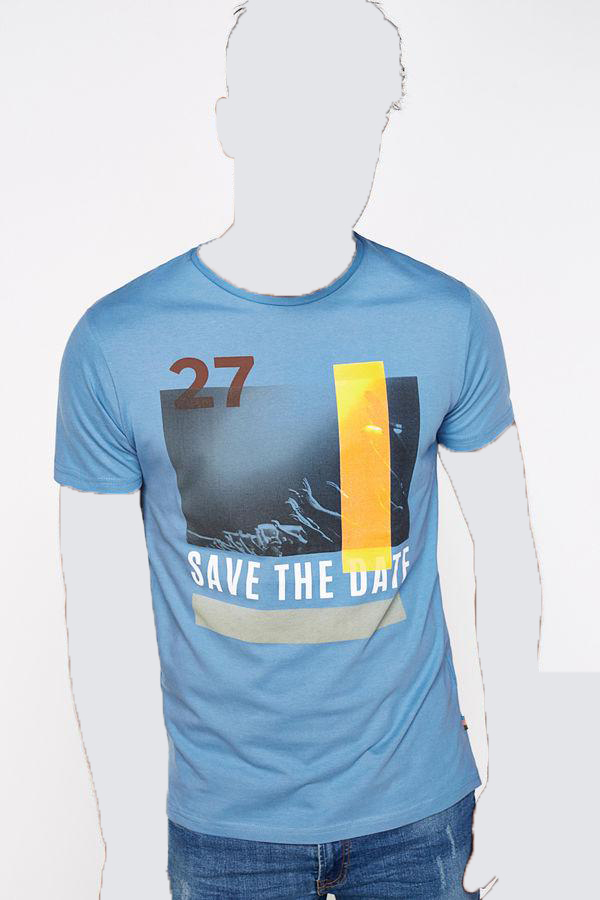teeshirt: (46, 236, 541, 836)
